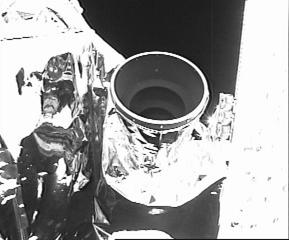thruster: (110, 51, 211, 151)
